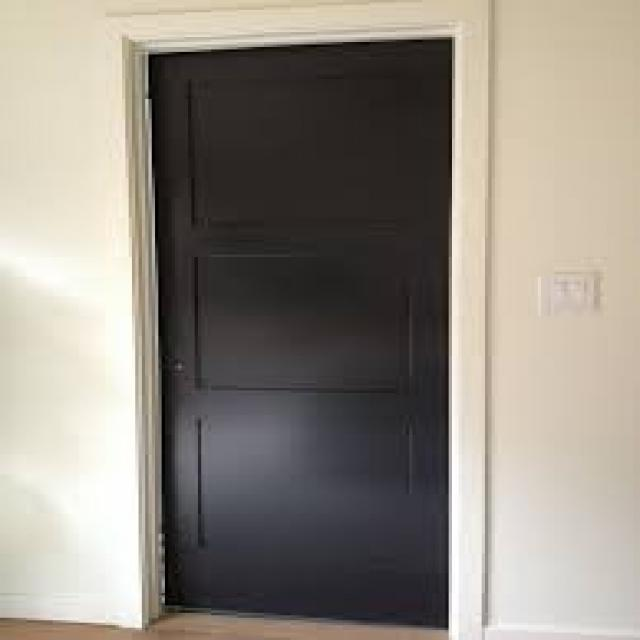Door: (138, 40, 460, 640)
